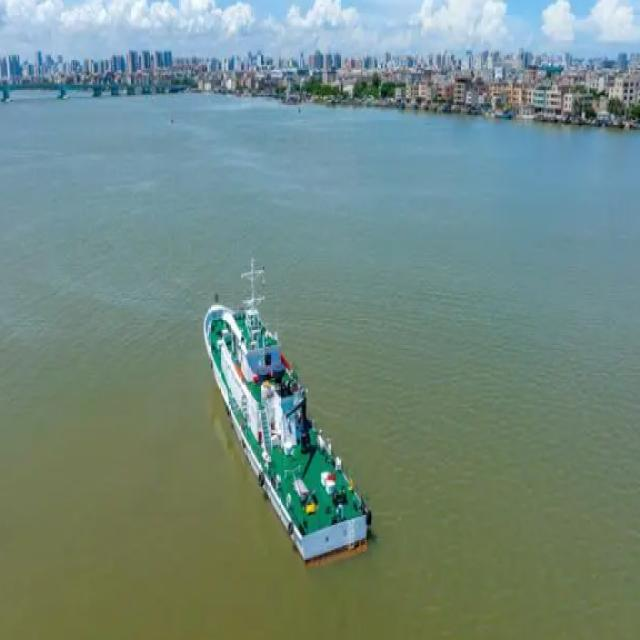fishing boat: (201, 257, 374, 568)
